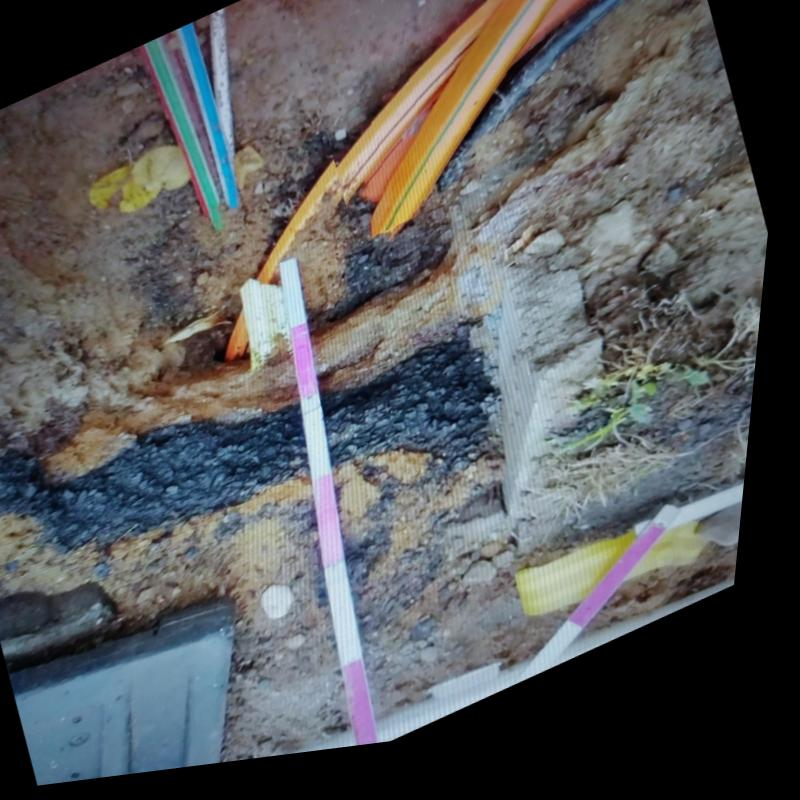Orang-Speednetrohrchen: (342, 0, 611, 242)
